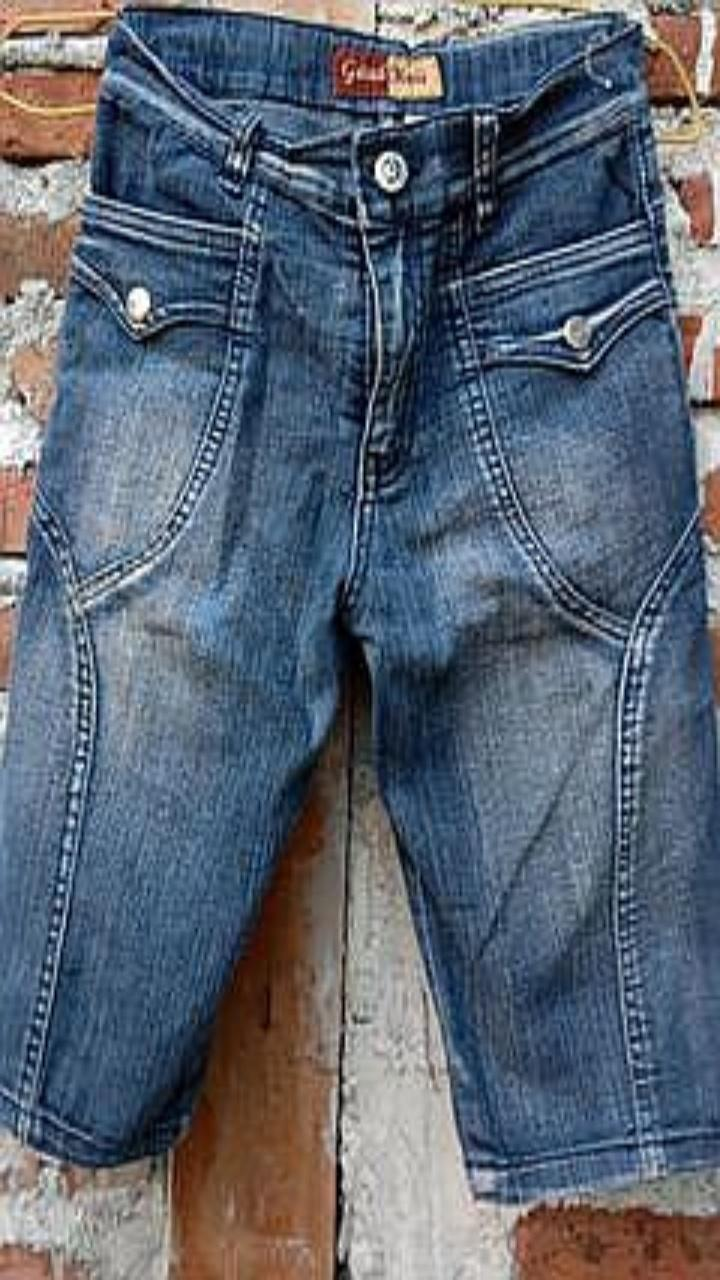Shorts: (0, 4, 719, 1201)
